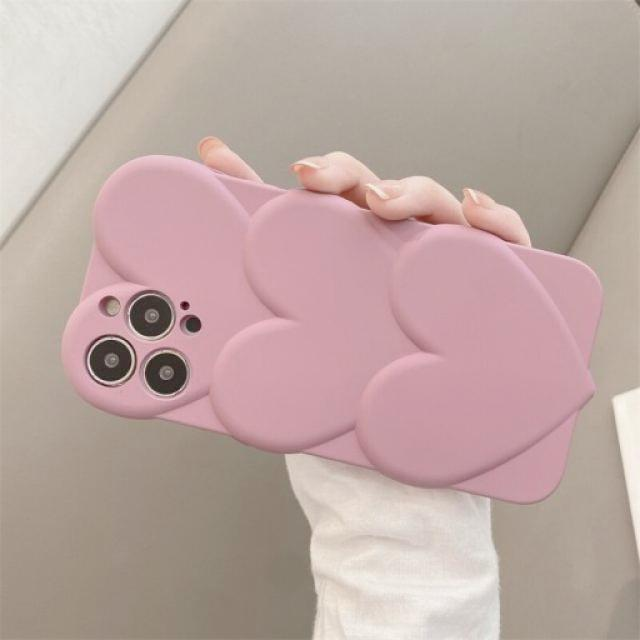lens: (76, 274, 214, 411)
phone: (60, 155, 602, 505)
